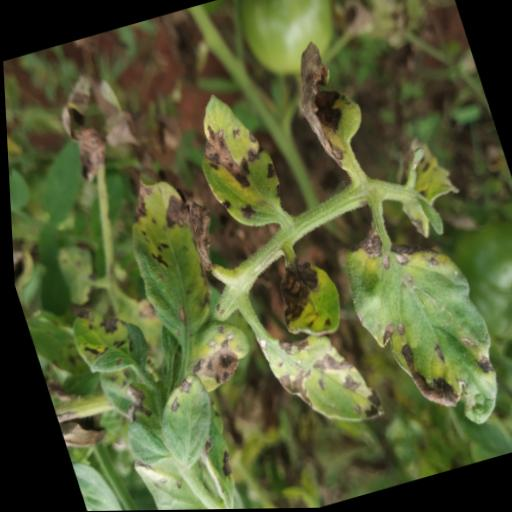Early Blight: (329, 209, 509, 446), (103, 162, 221, 341), (252, 310, 383, 445), (177, 83, 288, 236), (278, 33, 374, 175), (141, 368, 223, 472), (59, 295, 149, 384), (262, 253, 344, 343), (176, 316, 257, 393)
